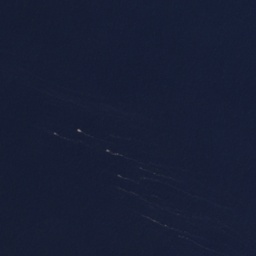Marine Debris: (142, 214, 184, 239), (136, 163, 178, 182), (105, 148, 134, 162), (116, 173, 134, 183), (53, 131, 61, 137), (77, 128, 83, 133)
